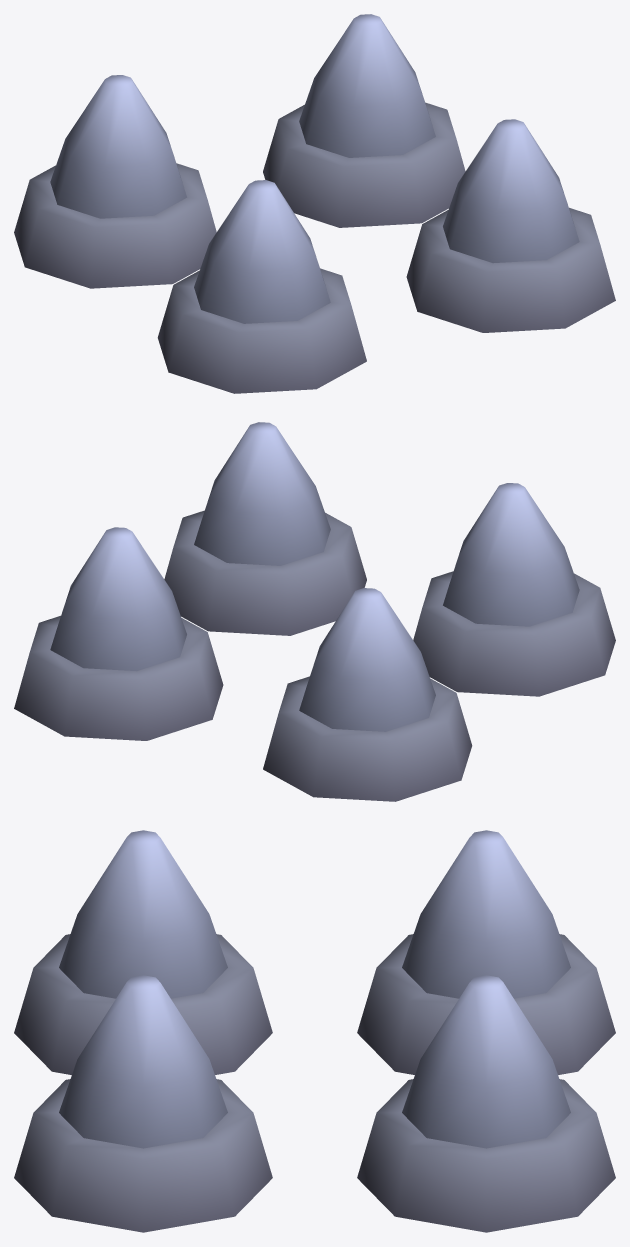
File: trap.glb
The picture shows the model from 3 angles, top to bottom: view 1: azimuth 30°, elevation 25°; view 2: azimuth 150°, elevation 25°; view 3: azimuth 270°, elevation 25°; orthographic projection. The views are drawn at different scales.
Visible parts, largest first — view 1: trap, spikes; view 2: trap, spikes; view 3: spikes, trap.
Part boxes in pixels (<box>): trap: <box>14,102,615,393</box>; spikes: <box>50,14,579,323</box>; trap: <box>14,510,615,801</box>; spikes: <box>50,422,579,731</box>; spikes: <box>59,830,570,1148</box>; trap: <box>14,934,615,1232</box>.
Size of the model in its own units: 0.7897 by 0.2831 by 0.7897.
Materials: 1 (1 with a texture image).
